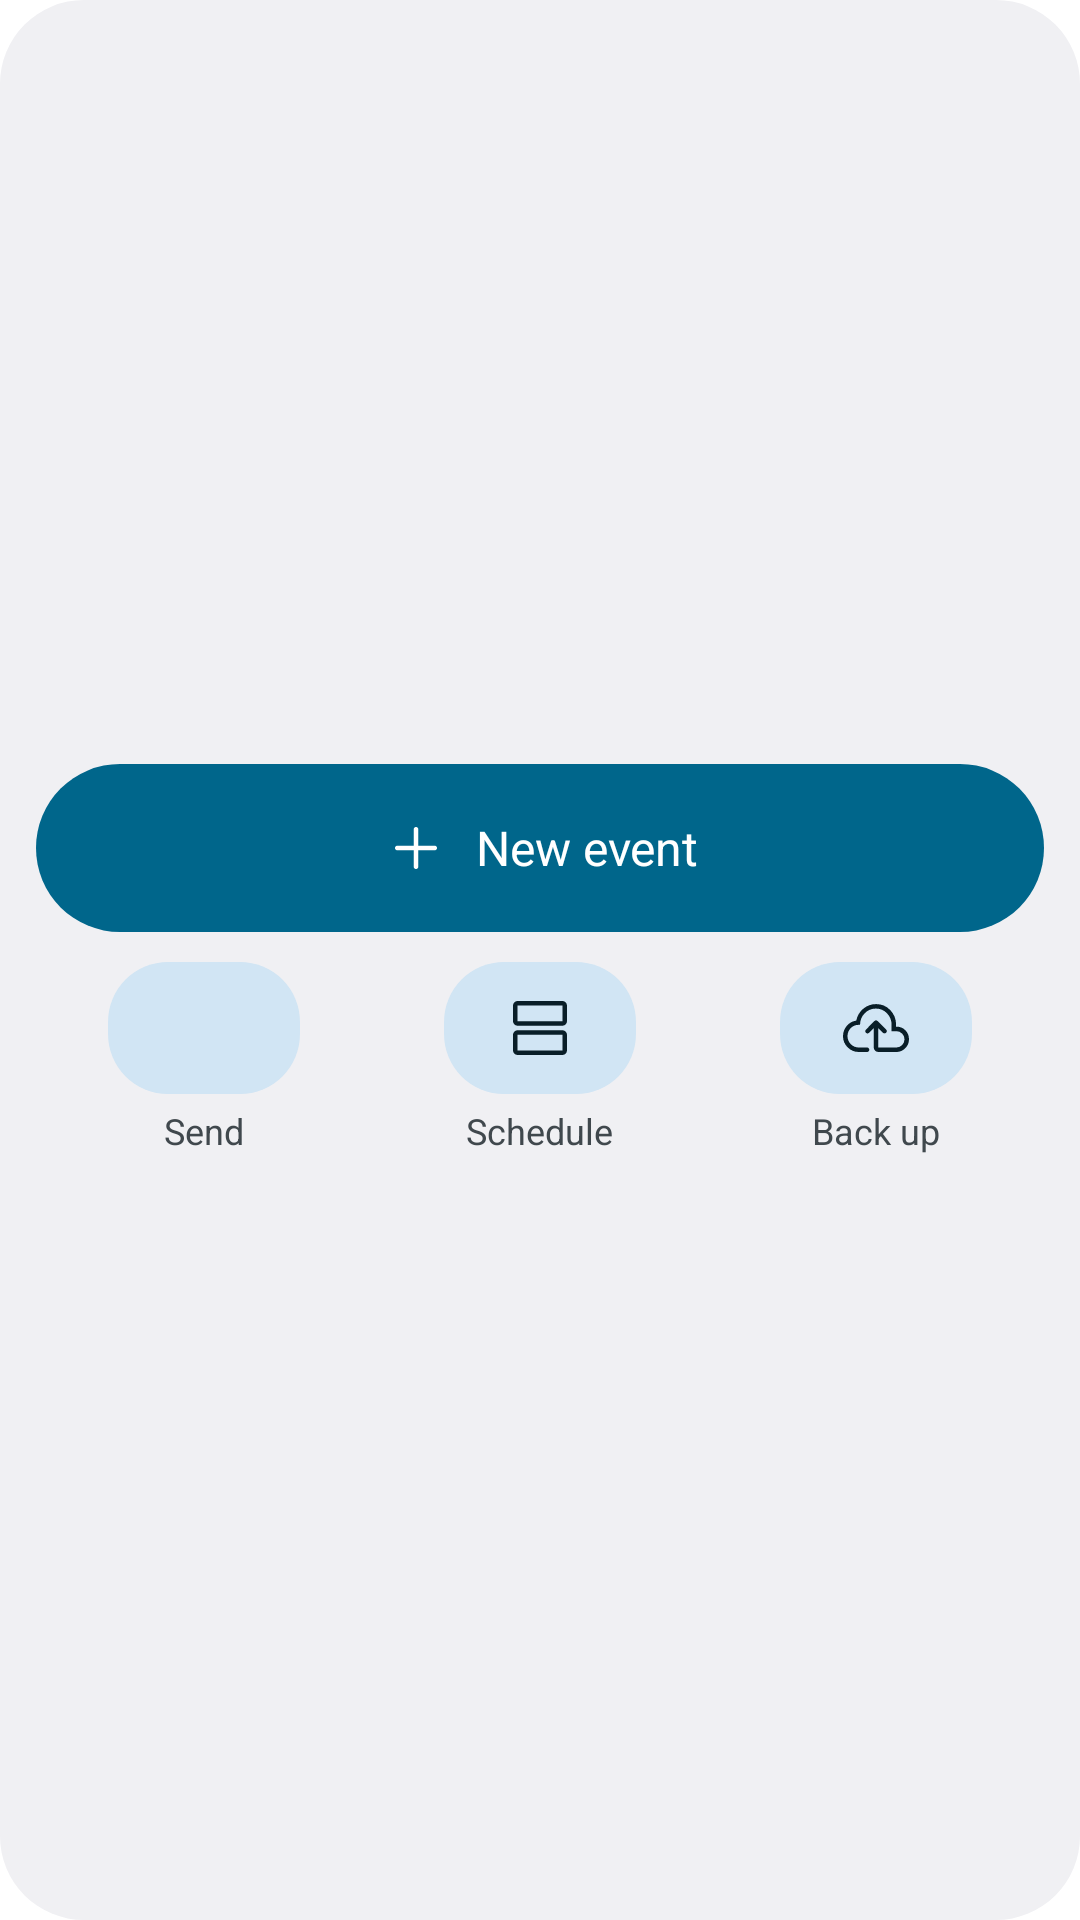

Named icons in this screenshot (1080 x 1920) and their bounding boxes, bbox=[x1, y1, x2, y2]:
add: bbox=[395, 827, 437, 869]
